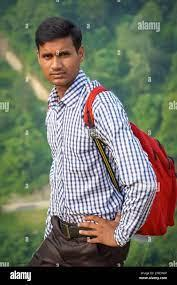Human: (21, 17, 157, 277)
